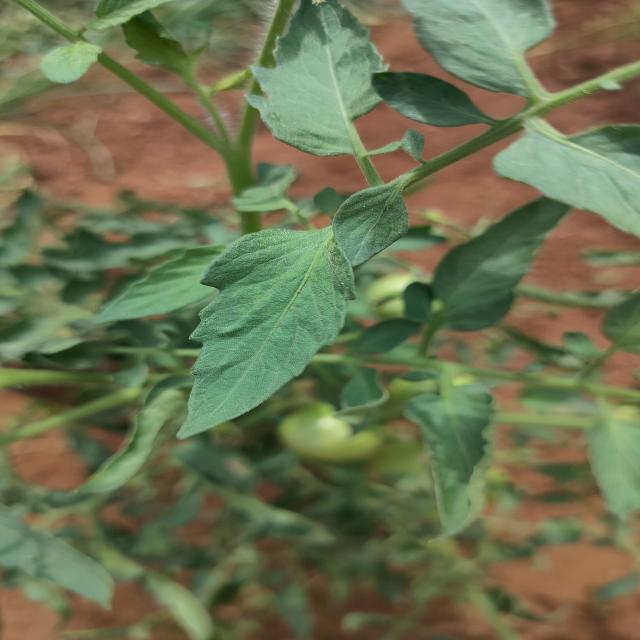tomato_healthy: (177, 227, 354, 438), (246, 0, 384, 186), (494, 117, 640, 235), (403, 0, 556, 101)
